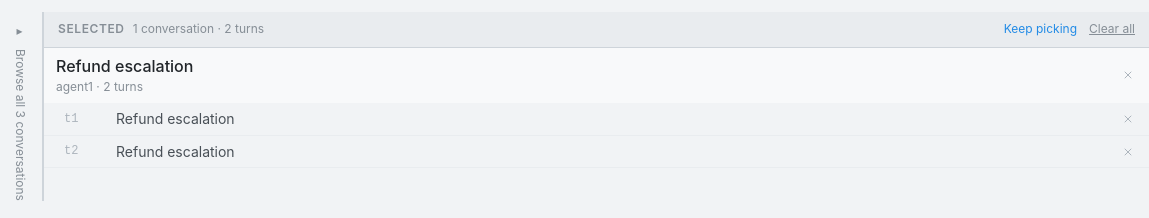
Test: SelectStep — the Selected panel › removing one turn narrows the set instead of dropping the conversation
Click the button named "Remove turn t1" at (1128, 119), box [1119,110,1137,128]
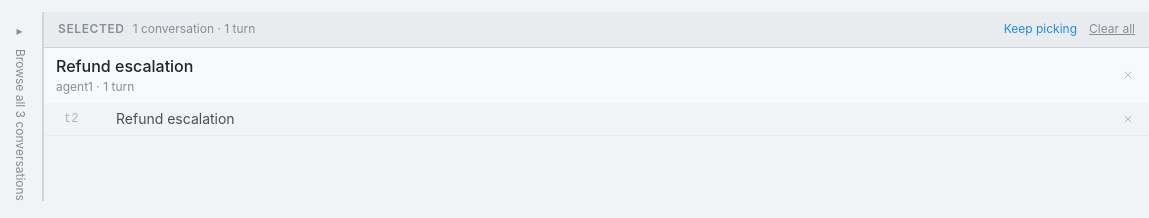
Expected: the text "1 conversation · 1 turn" is shown, [133,20,255,39]
